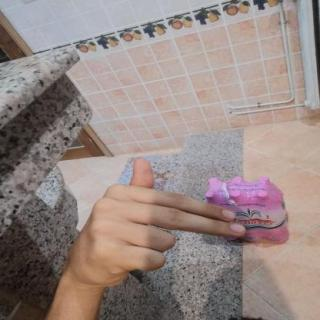GHAYN: (54, 149, 256, 293)
